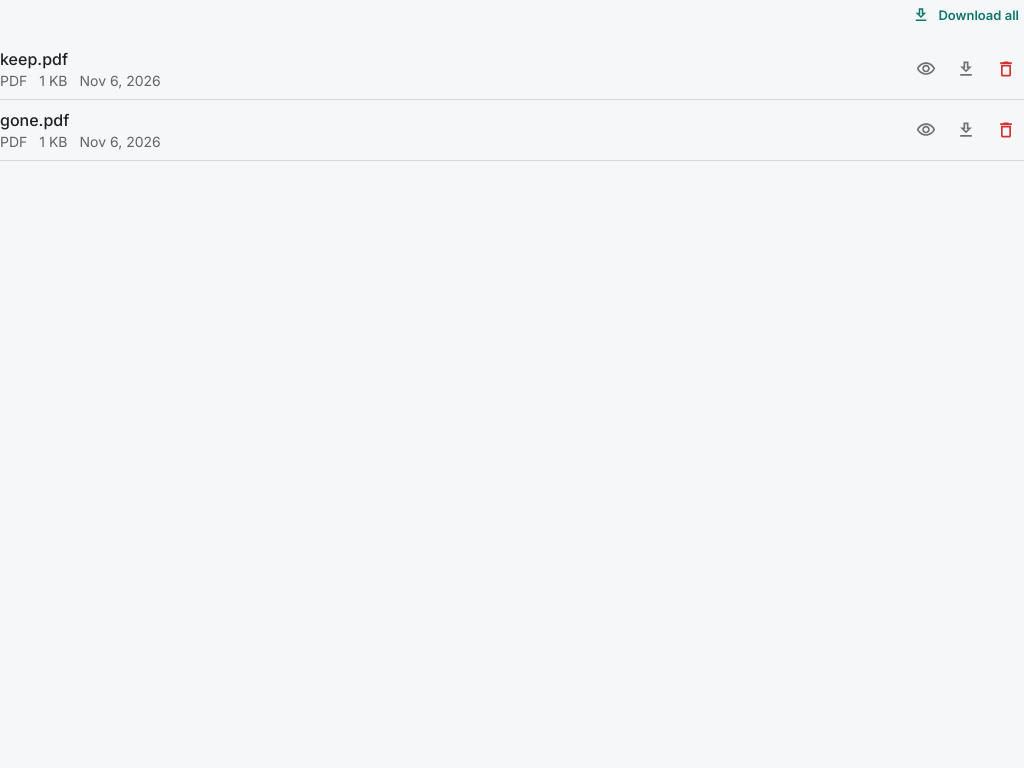
Scenario: the stored files @area:attachments › a reload that fails: the rows stay, the error and Retry show above them, row actions still work, and Retry brings the list back @ATT-270
Expected: the number of list items is 2, [0,39,1023,100]; [0,100,1023,161]
Click the button named "Delete “ gone.pdf ”" at x=1006, y=130, box [988,112,1023,148]
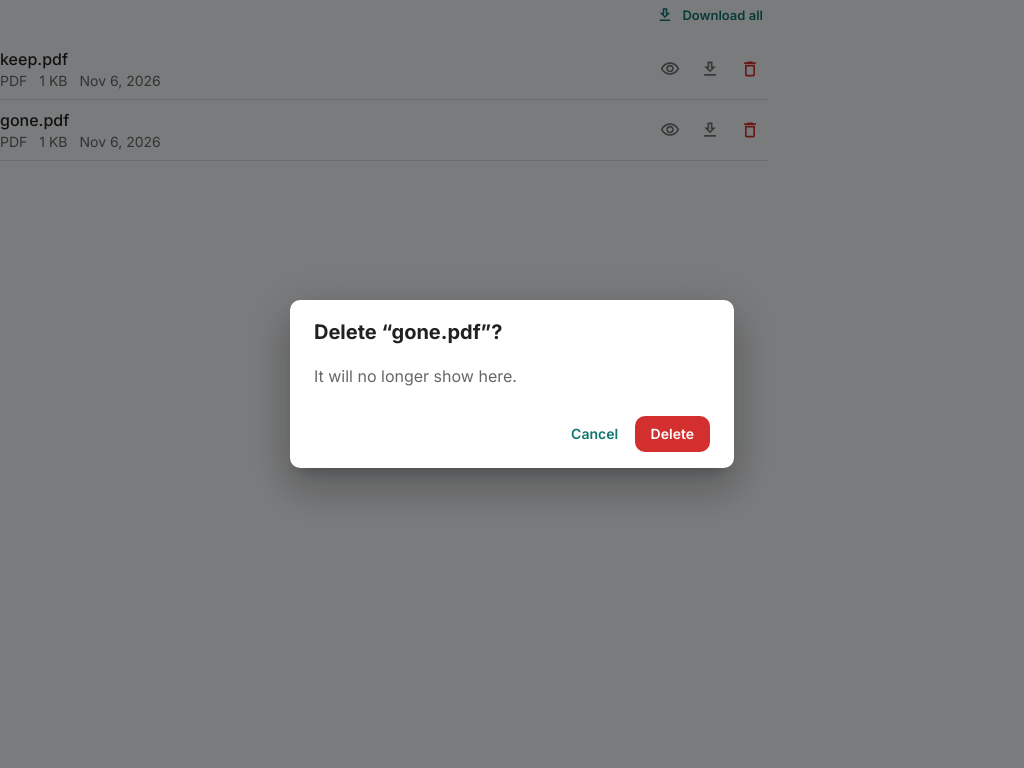
Click the button "Delete" at x=672, y=434, box [635,416,710,452]
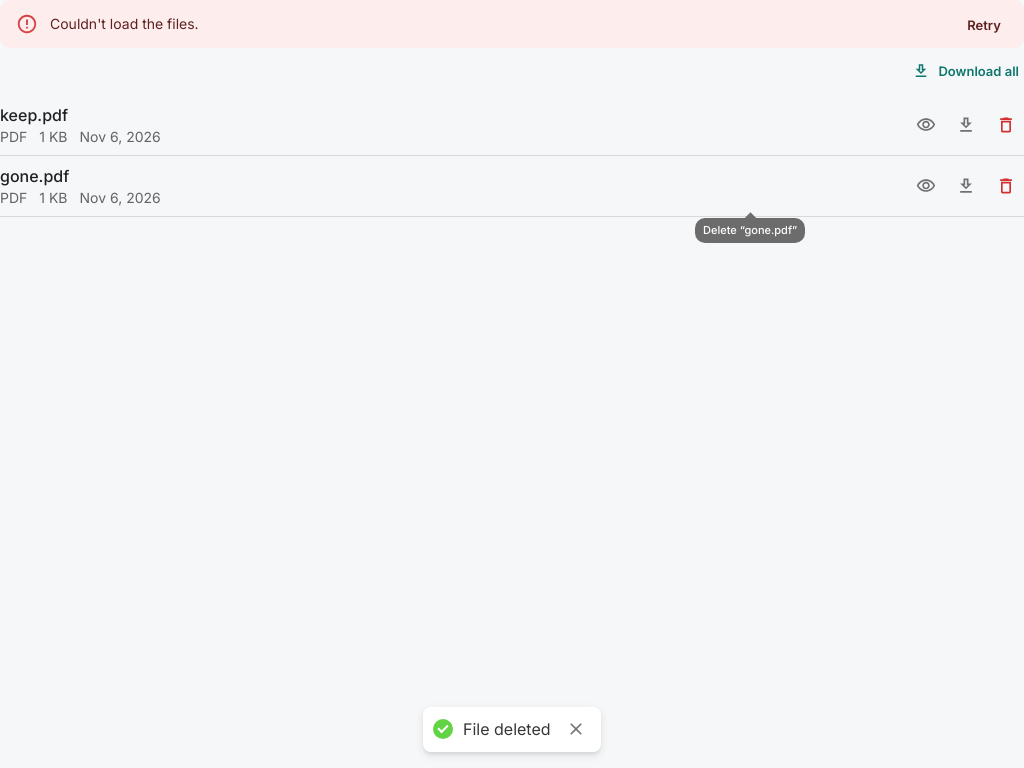
Expected: the number of list items is 2, [0,95,1023,156]; [0,156,1023,217]
Expected: the dialog is gone
Click the button named "Download “ keep.pdf ”" at x=966, y=125, box [948,107,984,143]
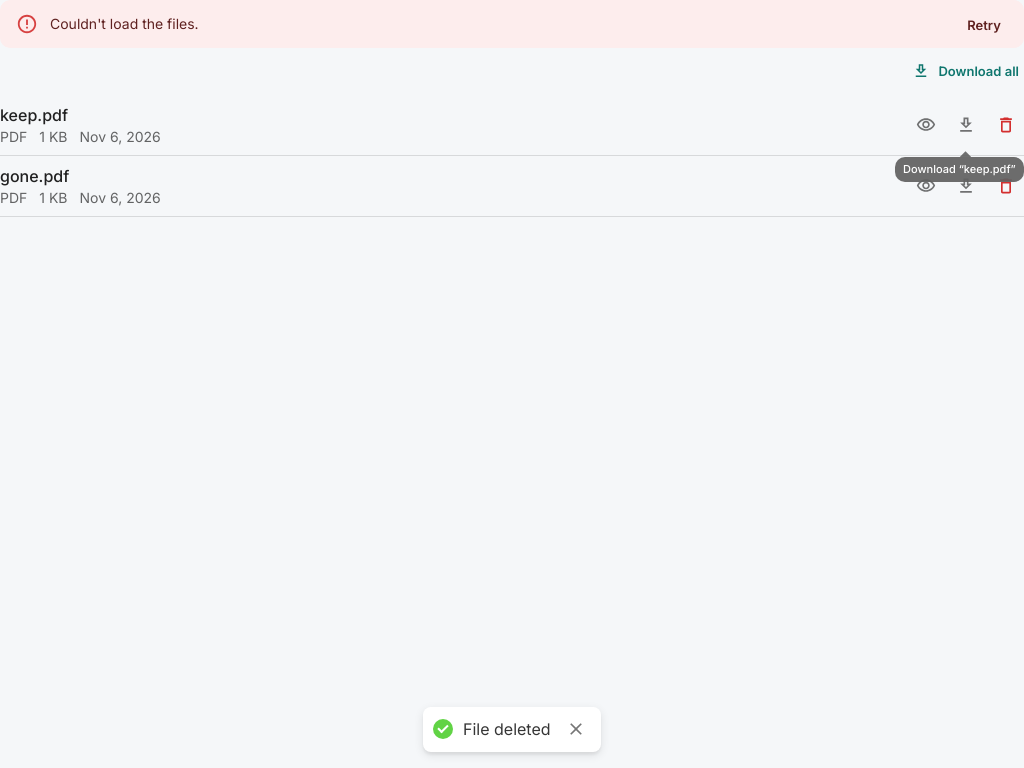
Expected: the text "Couldn't load the files." is shown, [50,15,199,32]
Click the button "Retry" at x=984, y=25, box [952,10,1016,41]
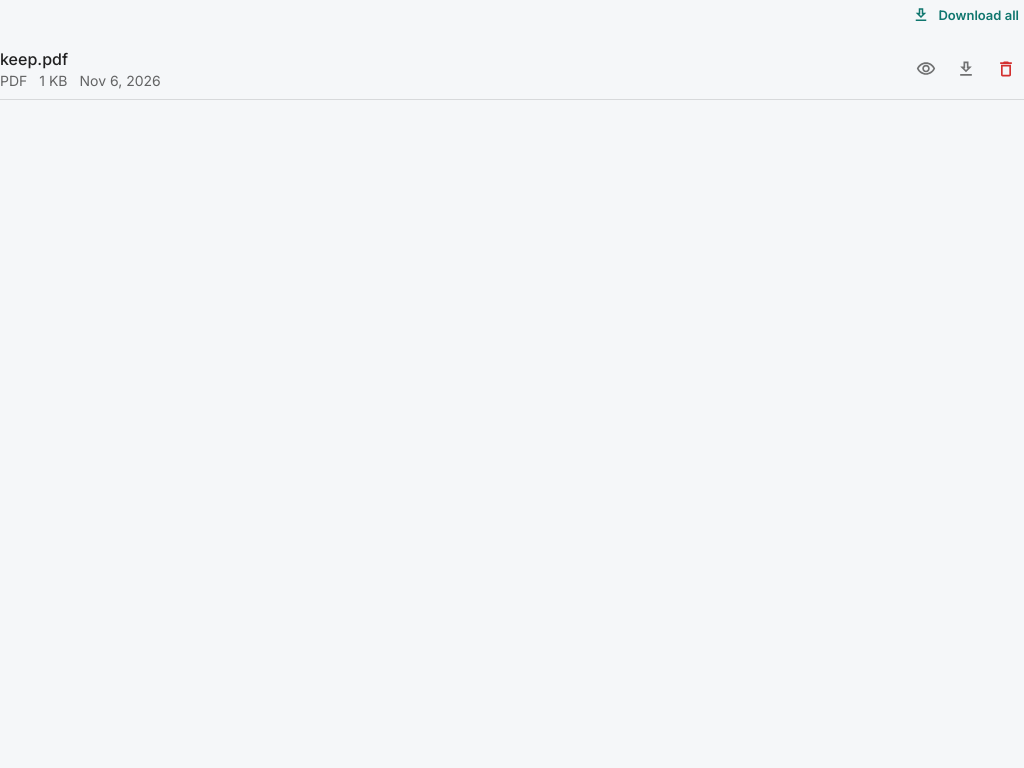
Expected: the number of list items is 1, [0,39,1023,100]
Expected: the text "Couldn't load the files." is gone
